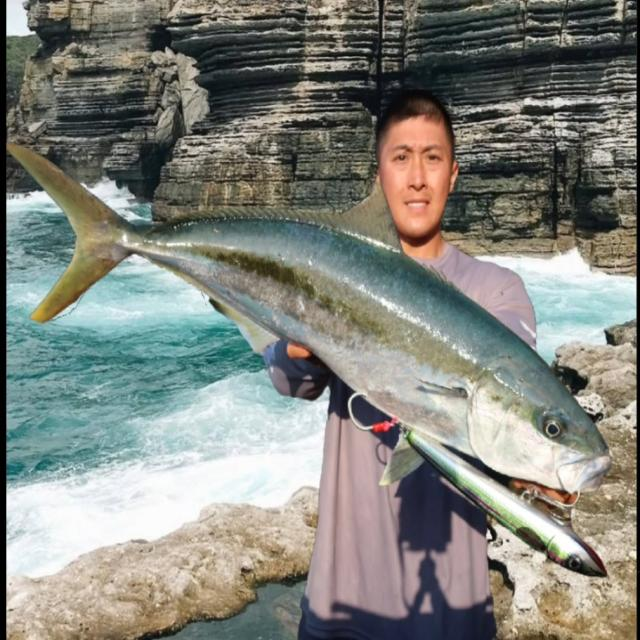Kingfish: (3, 136, 613, 497)
